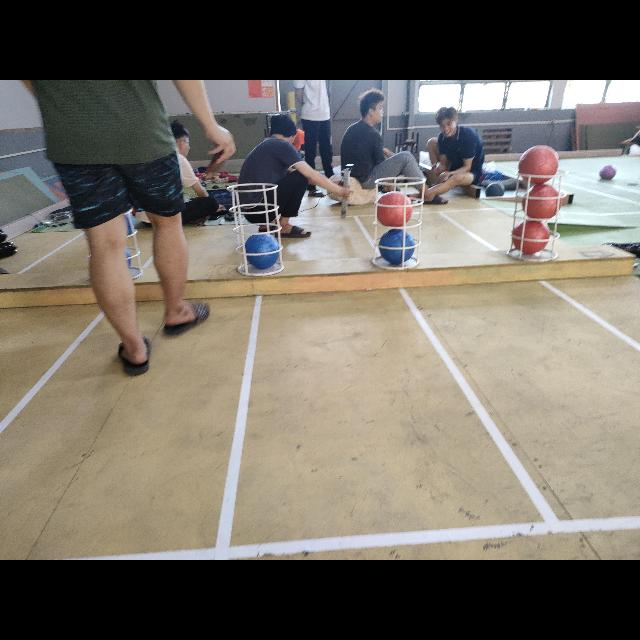B: (376, 230, 416, 266), (243, 234, 280, 268)
R: (518, 144, 560, 183), (375, 190, 413, 228), (510, 221, 550, 257), (520, 186, 562, 220)
